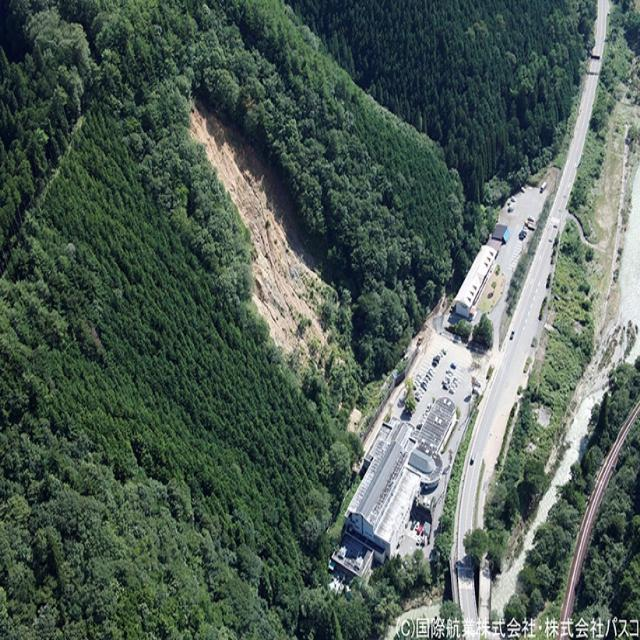Debris-flow: (191, 105, 350, 376)
